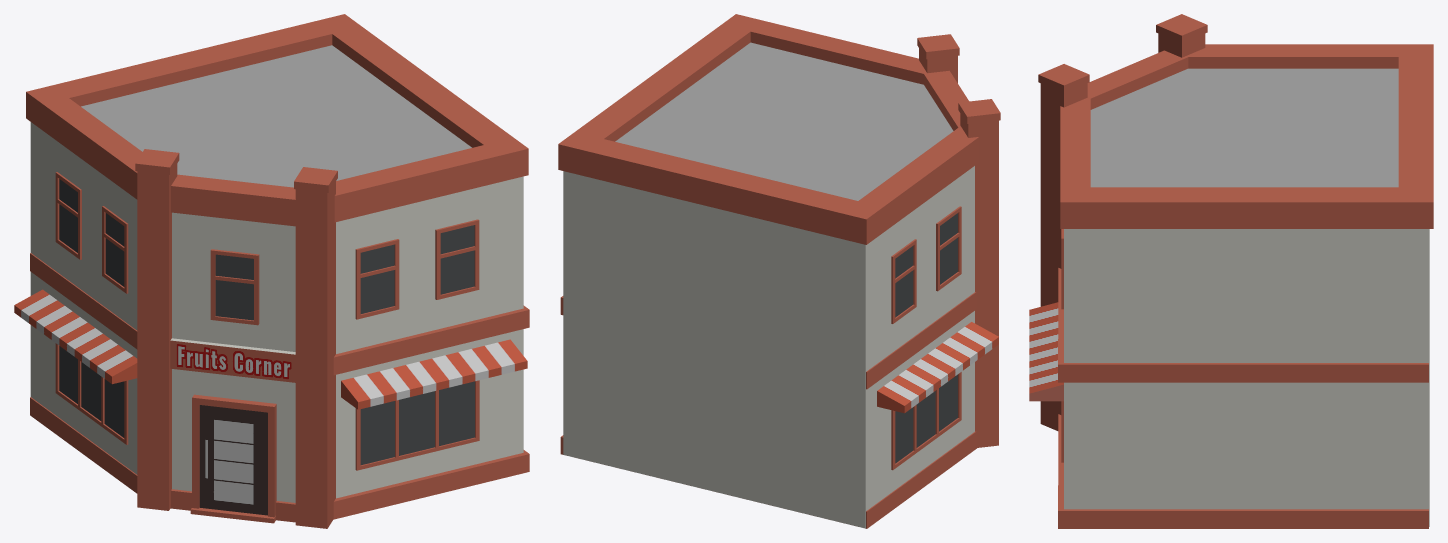
Rendered from building-fruits-shop.glb.
3 renders of one model, left to right at view 1: azimuth 30°, elevation 25°; view 2: azimuth 150°, elevation 25°; view 3: azimuth 270°, elevation 25°, orthographic. The views are drawn at different scales.
Parts seen in each view (by area): view 1: Building_Fruits Shop; view 2: Building_Fruits Shop; view 3: Building_Fruits Shop.
Part boxes in pixels (x1,y1,x2,y2): Building_Fruits Shop: (14, 14, 529, 528); Building_Fruits Shop: (558, 14, 1000, 528); Building_Fruits Shop: (1029, 14, 1433, 528).
Bounding box in the file's own units: 12.13 × 11.61 × 12.16.
Materials: 1 (1 with a texture image).
